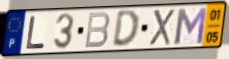3: (53, 12, 76, 51)
B: (83, 10, 112, 50)
D: (111, 9, 141, 49)
L: (25, 15, 47, 51)
M: (173, 6, 209, 46)
X: (148, 8, 176, 47)
